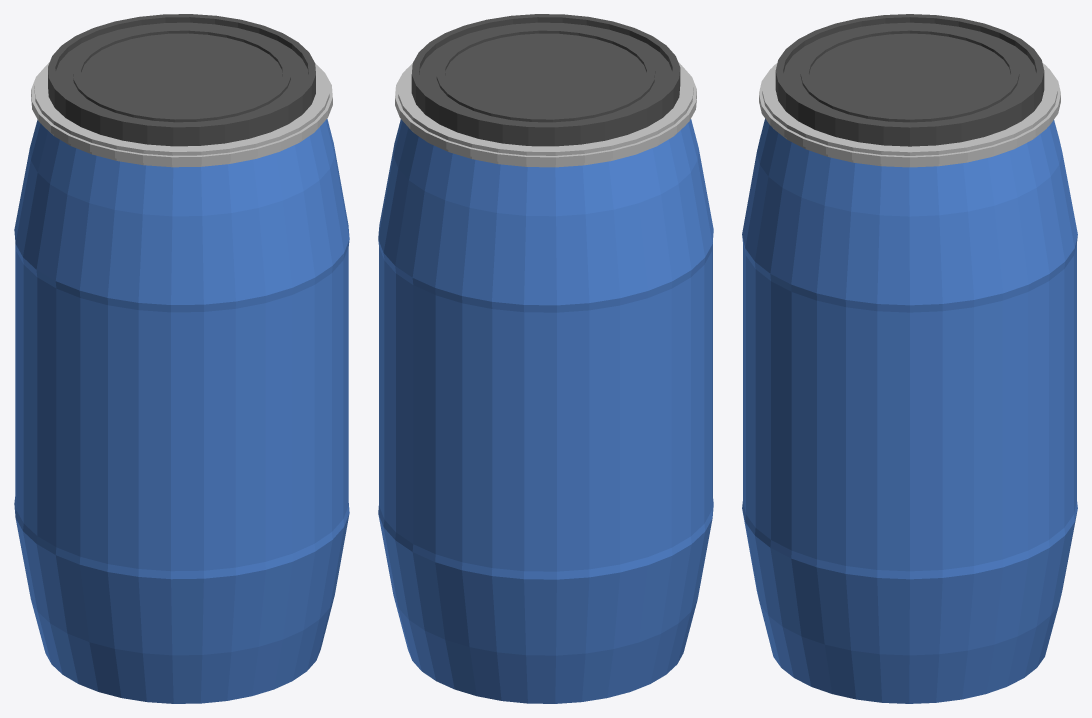
Rendered from waterTank.obj.
The picture shows the model from 3 angles, left to right: view 1: azimuth 30°, elevation 25°; view 2: azimuth 150°, elevation 25°; view 3: azimuth 270°, elevation 25°; orthographic projection.
Parts seen in each view (by area): view 1: 円柱.003; view 2: 円柱.003; view 3: 円柱.003.
Boxes of the visible parts, x1=… form: 円柱.003: x1=14, y1=14, x2=349, y2=703; 円柱.003: x1=378, y1=14, x2=713, y2=703; 円柱.003: x1=742, y1=14, x2=1077, y2=703.
Bounding box in the file's own units: 2 × 3.77 × 2.
1 material, 1 textured.
